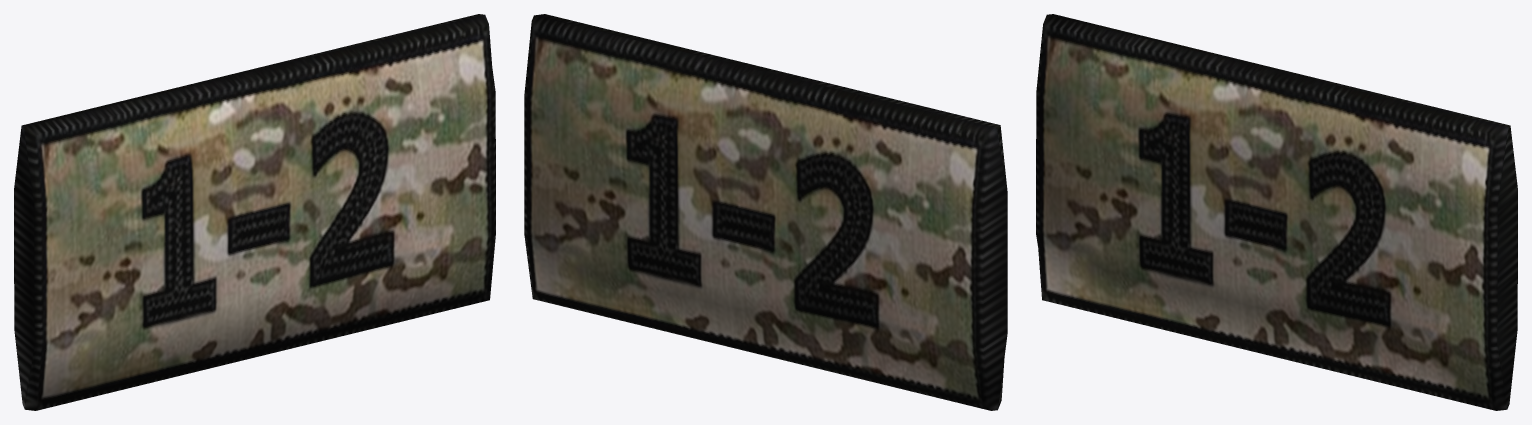
File: Havoc12.fbx
3 renders of one model, left to right at view 1: azimuth 30°, elevation 25°; view 2: azimuth 150°, elevation 25°; view 3: azimuth 330°, elevation 25°, orthographic.
Parts seen in each view (by area): view 1: FlagPatch; view 2: FlagPatch; view 3: FlagPatch.
Boxes of the visible parts, box(x1,y1,x2,y2) form: FlagPatch: box(14, 14, 495, 410); FlagPatch: box(524, 14, 1007, 410); FlagPatch: box(1036, 14, 1517, 410).
Bounding box in the file's own units: 9.23 × 5.38 × 0.9201.
